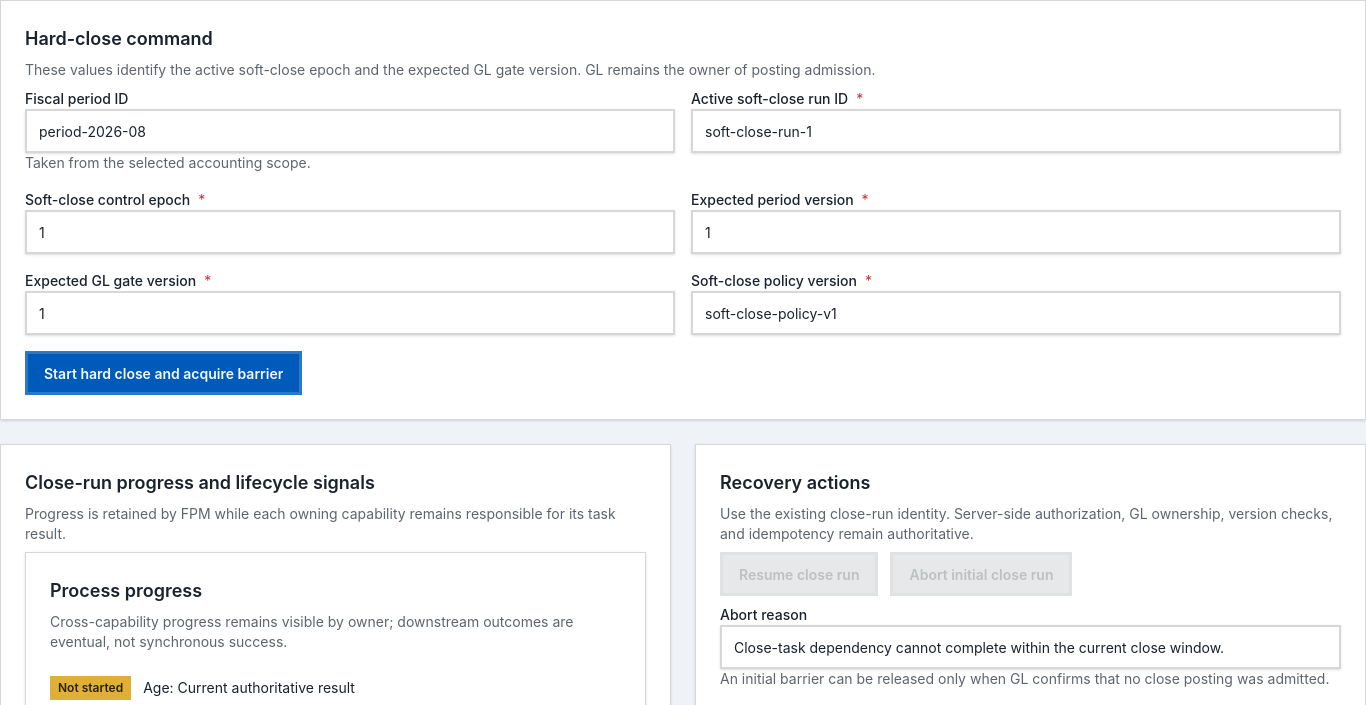
fiscal-period hard-close workspace › submits the scoped soft-close handoff and displays the authoritative barrier
(page scrolled)
Click the button "Start hard close and acquire barrier". click: x=164, y=373
box: [25,351,302,395]
(page scrolled)
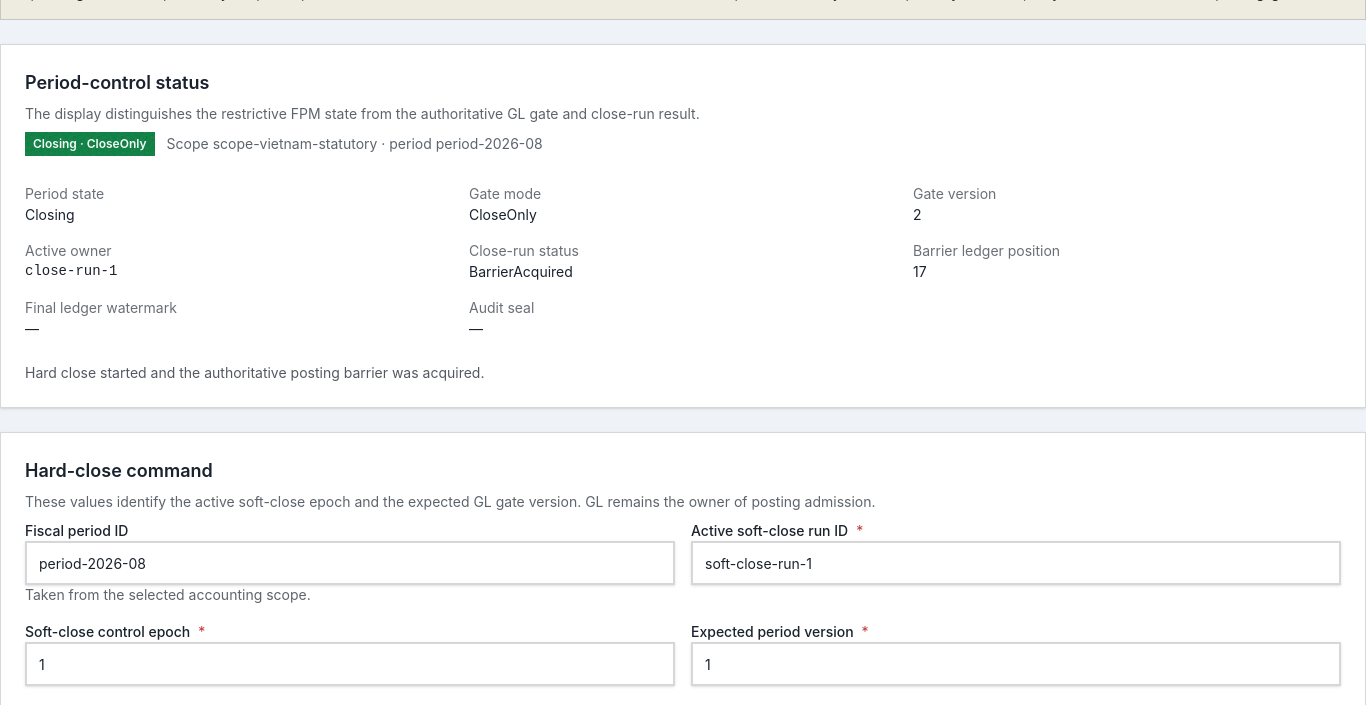
Expected: the message "Closing · CloseOnly" is shown, [25,132,155,156]
Expected: the text "17" is shown, [913,263,927,280]
Expected: the text "Hard close started and the authoritative posting barrier was acquired." is shown, [25,364,484,381]
